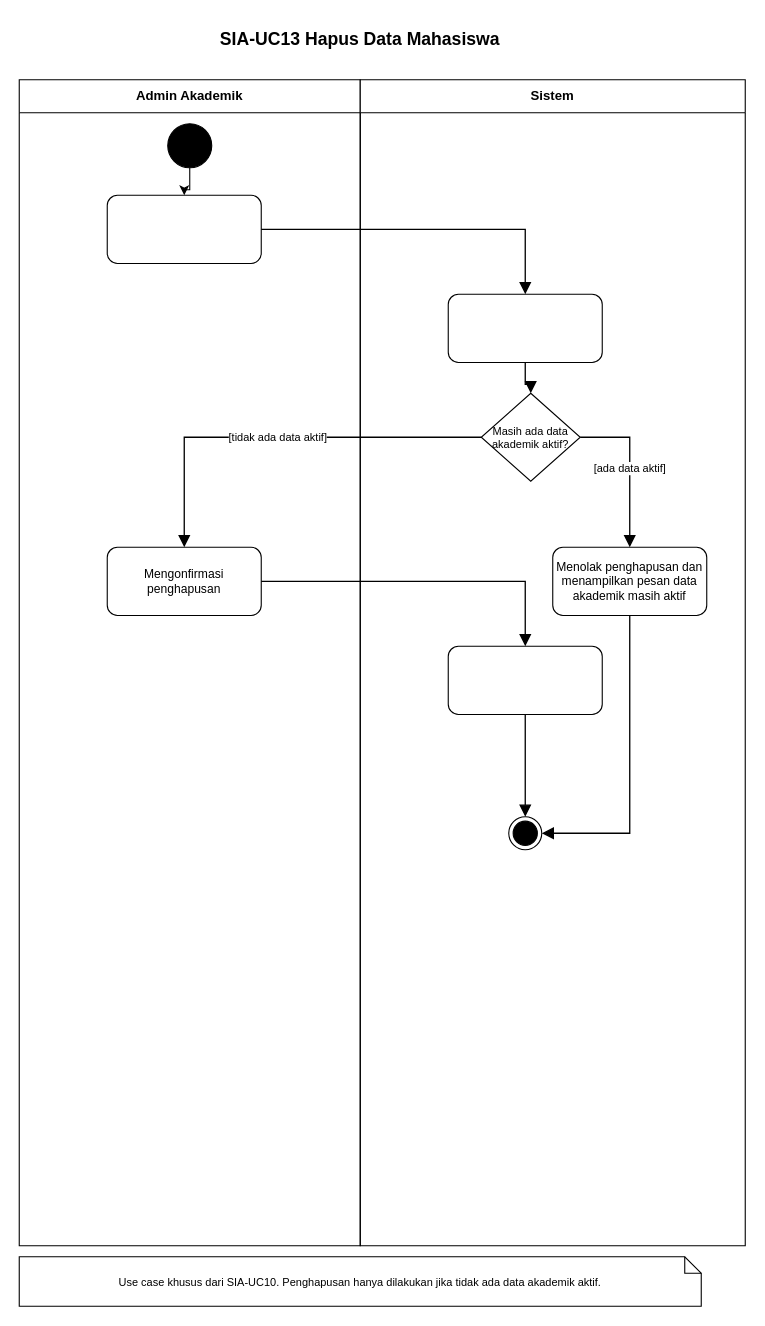
The diagram is 765 pixels wide and 1326 high, and some of its shapes have lost their labels. The centre of each missing label's shape, as x and y in pixels:
"Memeriksa apakah terdapat data akademik aktif" belongs at (524,327).
"Memilih data mahasiswa yang akan dihapus" belongs at (183,228).
"Menghapus data mahasiswa dan menampilkan konfirmasi" belongs at (524,679).
